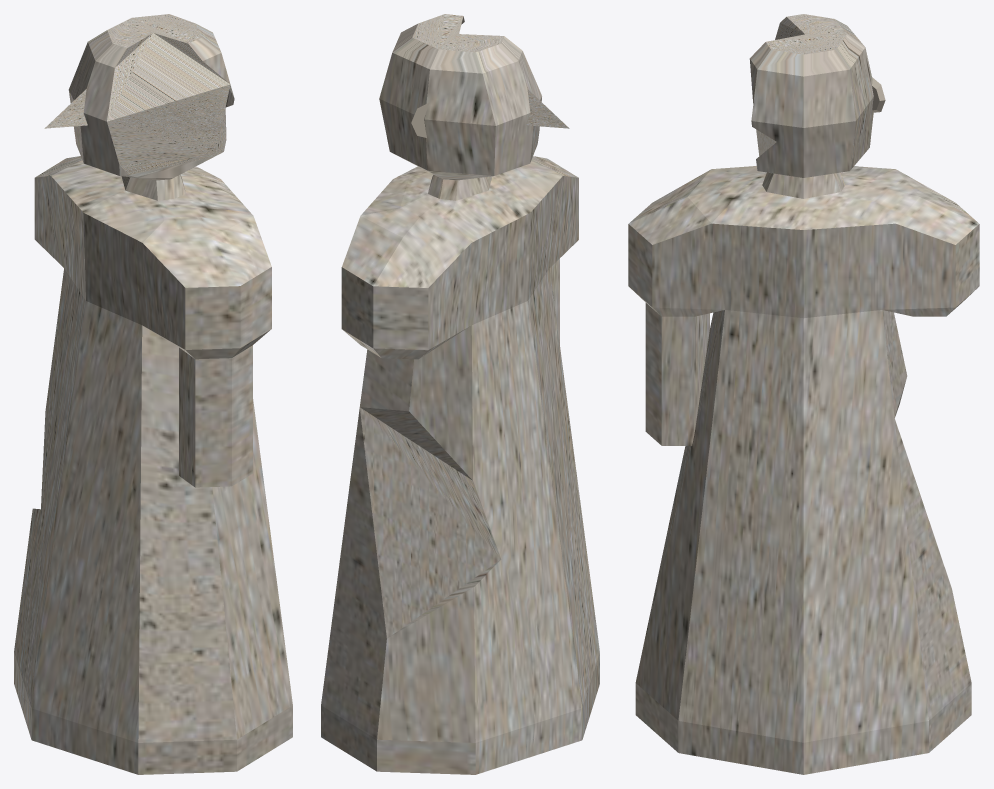
The model's file is Statue12.fbx.
3 views of the same model, side by side, from view 1: azimuth 30°, elevation 25°; view 2: azimuth 150°, elevation 25°; view 3: azimuth 270°, elevation 25° (orthographic).
Visible parts, largest first — view 1: Circle, Cube; view 2: Circle, Cube; view 3: Circle.
Boxes of the visible parts, x1=… form: Circle: x1=14, y1=14, x2=292, y2=774; Cube: x1=44, y1=89, x2=87, y2=128; Circle: x1=321, y1=14, x2=599, y2=774; Cube: x1=526, y1=89, x2=569, y2=128; Circle: x1=628, y1=14, x2=979, y2=774.
Bounding box in the file's own units: 71.9 × 191 × 89.1.
